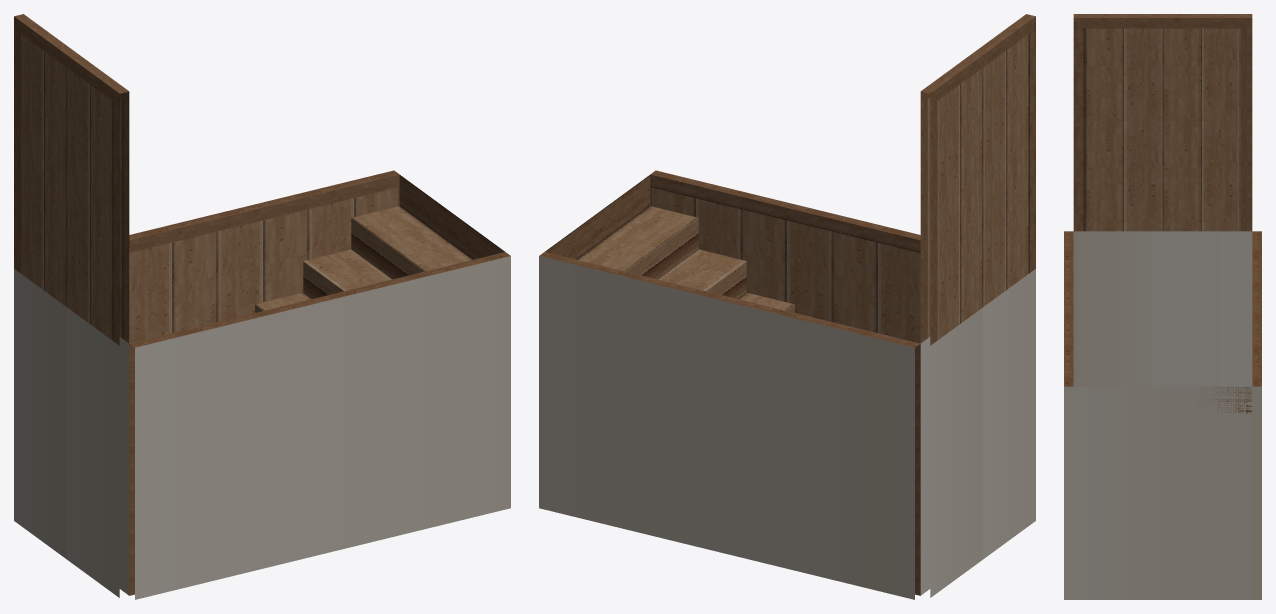
Rendered from kaidan_01.fbx.
3 renders of one model, left to right at view 1: azimuth 30°, elevation 25°; view 2: azimuth 150°, elevation 25°; view 3: azimuth 270°, elevation 25°, orthographic. The views are drawn at different scales.
Visible parts, largest first — view 1: kaidan_01; view 2: kaidan_01; view 3: kaidan_01.
Part boxes in pixels (x1,y1,x2,y2): kaidan_01: (14,14,510,599); kaidan_01: (539,14,1035,599); kaidan_01: (1064,14,1261,599).
Size of the model in its own units: 800 by 1000 by 420.
